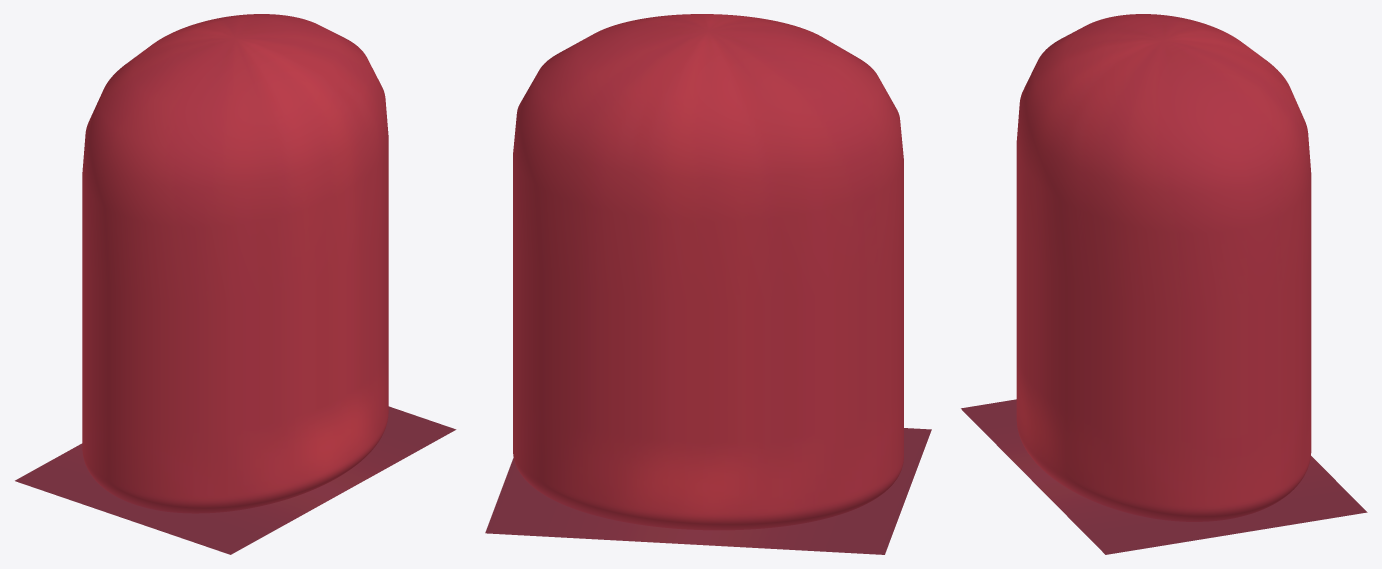
Rendered from stage.glb.
The picture shows the model from 3 angles, left to right: view 1: azimuth 30°, elevation 25°; view 2: azimuth 150°, elevation 25°; view 3: azimuth 270°, elevation 25°; orthographic projection. The views are drawn at different scales.
Visible parts, largest first — view 1: Backdrop | seamless carmine cyclorama, Floor | oxblood lacquer; view 2: Backdrop | seamless carmine cyclorama, Floor | oxblood lacquer; view 3: Backdrop | seamless carmine cyclorama, Floor | oxblood lacquer.
Boxes of the visible parts, <box> form: Backdrop | seamless carmine cyclorama: <box>82,14,388,513</box>; Floor | oxblood lacquer: <box>15,406,456,554</box>; Backdrop | seamless carmine cyclorama: <box>513,14,903,530</box>; Floor | oxblood lacquer: <box>485,428,931,554</box>; Backdrop | seamless carmine cyclorama: <box>1016,14,1311,521</box>; Floor | oxblood lacquer: <box>961,399,1367,554</box>.
Bounding box in the file's own units: 21.19 × 22.06 × 19.28.
